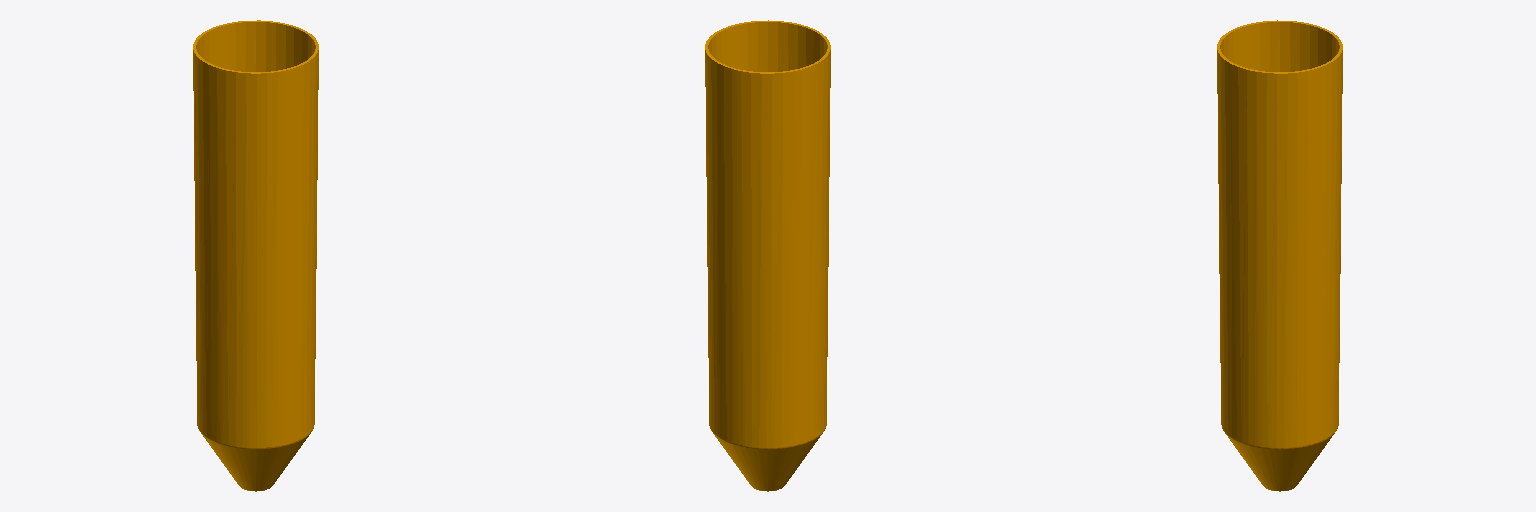
The robot description file, URDF, robot "cylinder.urdf":
<?xml version="1.0" ?>
<robot name="cylinder.urdf">
  <link name="cylinder">
    <visual>
      <origin rpy="0 0 0" xyz="0 0 0"/>
      <geometry>
        <mesh filename="package://cylinder/conicaltube050.stl" scale="0.001 0.001 0.001"/>
      </geometry>
    </visual>
    <collision>
      <origin rpy="0 0 0" xyz="0 0 0"/>
      <geometry>
        <mesh filename="package://cylinder/conicaltube050.stl" scale="0.001 0.001 0.001"/>
      </geometry>
    </collision>
    <inertial>
      <origin rpy="0 0 0" xyz="0 0 0"/>
      <mass value="0.05"/>
      <inertia ixx="10" ixy="0" ixz="0" iyy="10" iyz="0" izz="10"/>
    </inertial>
  </link>

</robot>

--- What the picture shows (computed from the rendered views, not written in the file) ---
Views: 3 orthographic renders of the robot side by side, from view 1: azimuth 30°, elevation 25°; view 2: azimuth 150°, elevation 25°; view 3: azimuth 270°, elevation 25°.
Model cylinder.urdf with 1 links and 0 joints (none), rooted at cylinder, posed every joint at zero.
Links seen in each view (by area): view 1: cylinder; view 2: cylinder; view 3: cylinder.
Link boxes in pixels (<box>): cylinder: <box>193,20,318,491</box>; cylinder: <box>705,20,830,491</box>; cylinder: <box>1217,20,1342,491</box>.
Bounding box of the posed robot: 0.03 × 0.03 × 0.115 m (x, y, z).
1 mesh visuals loaded from 1 distinct referenced files (1 binary STL).
